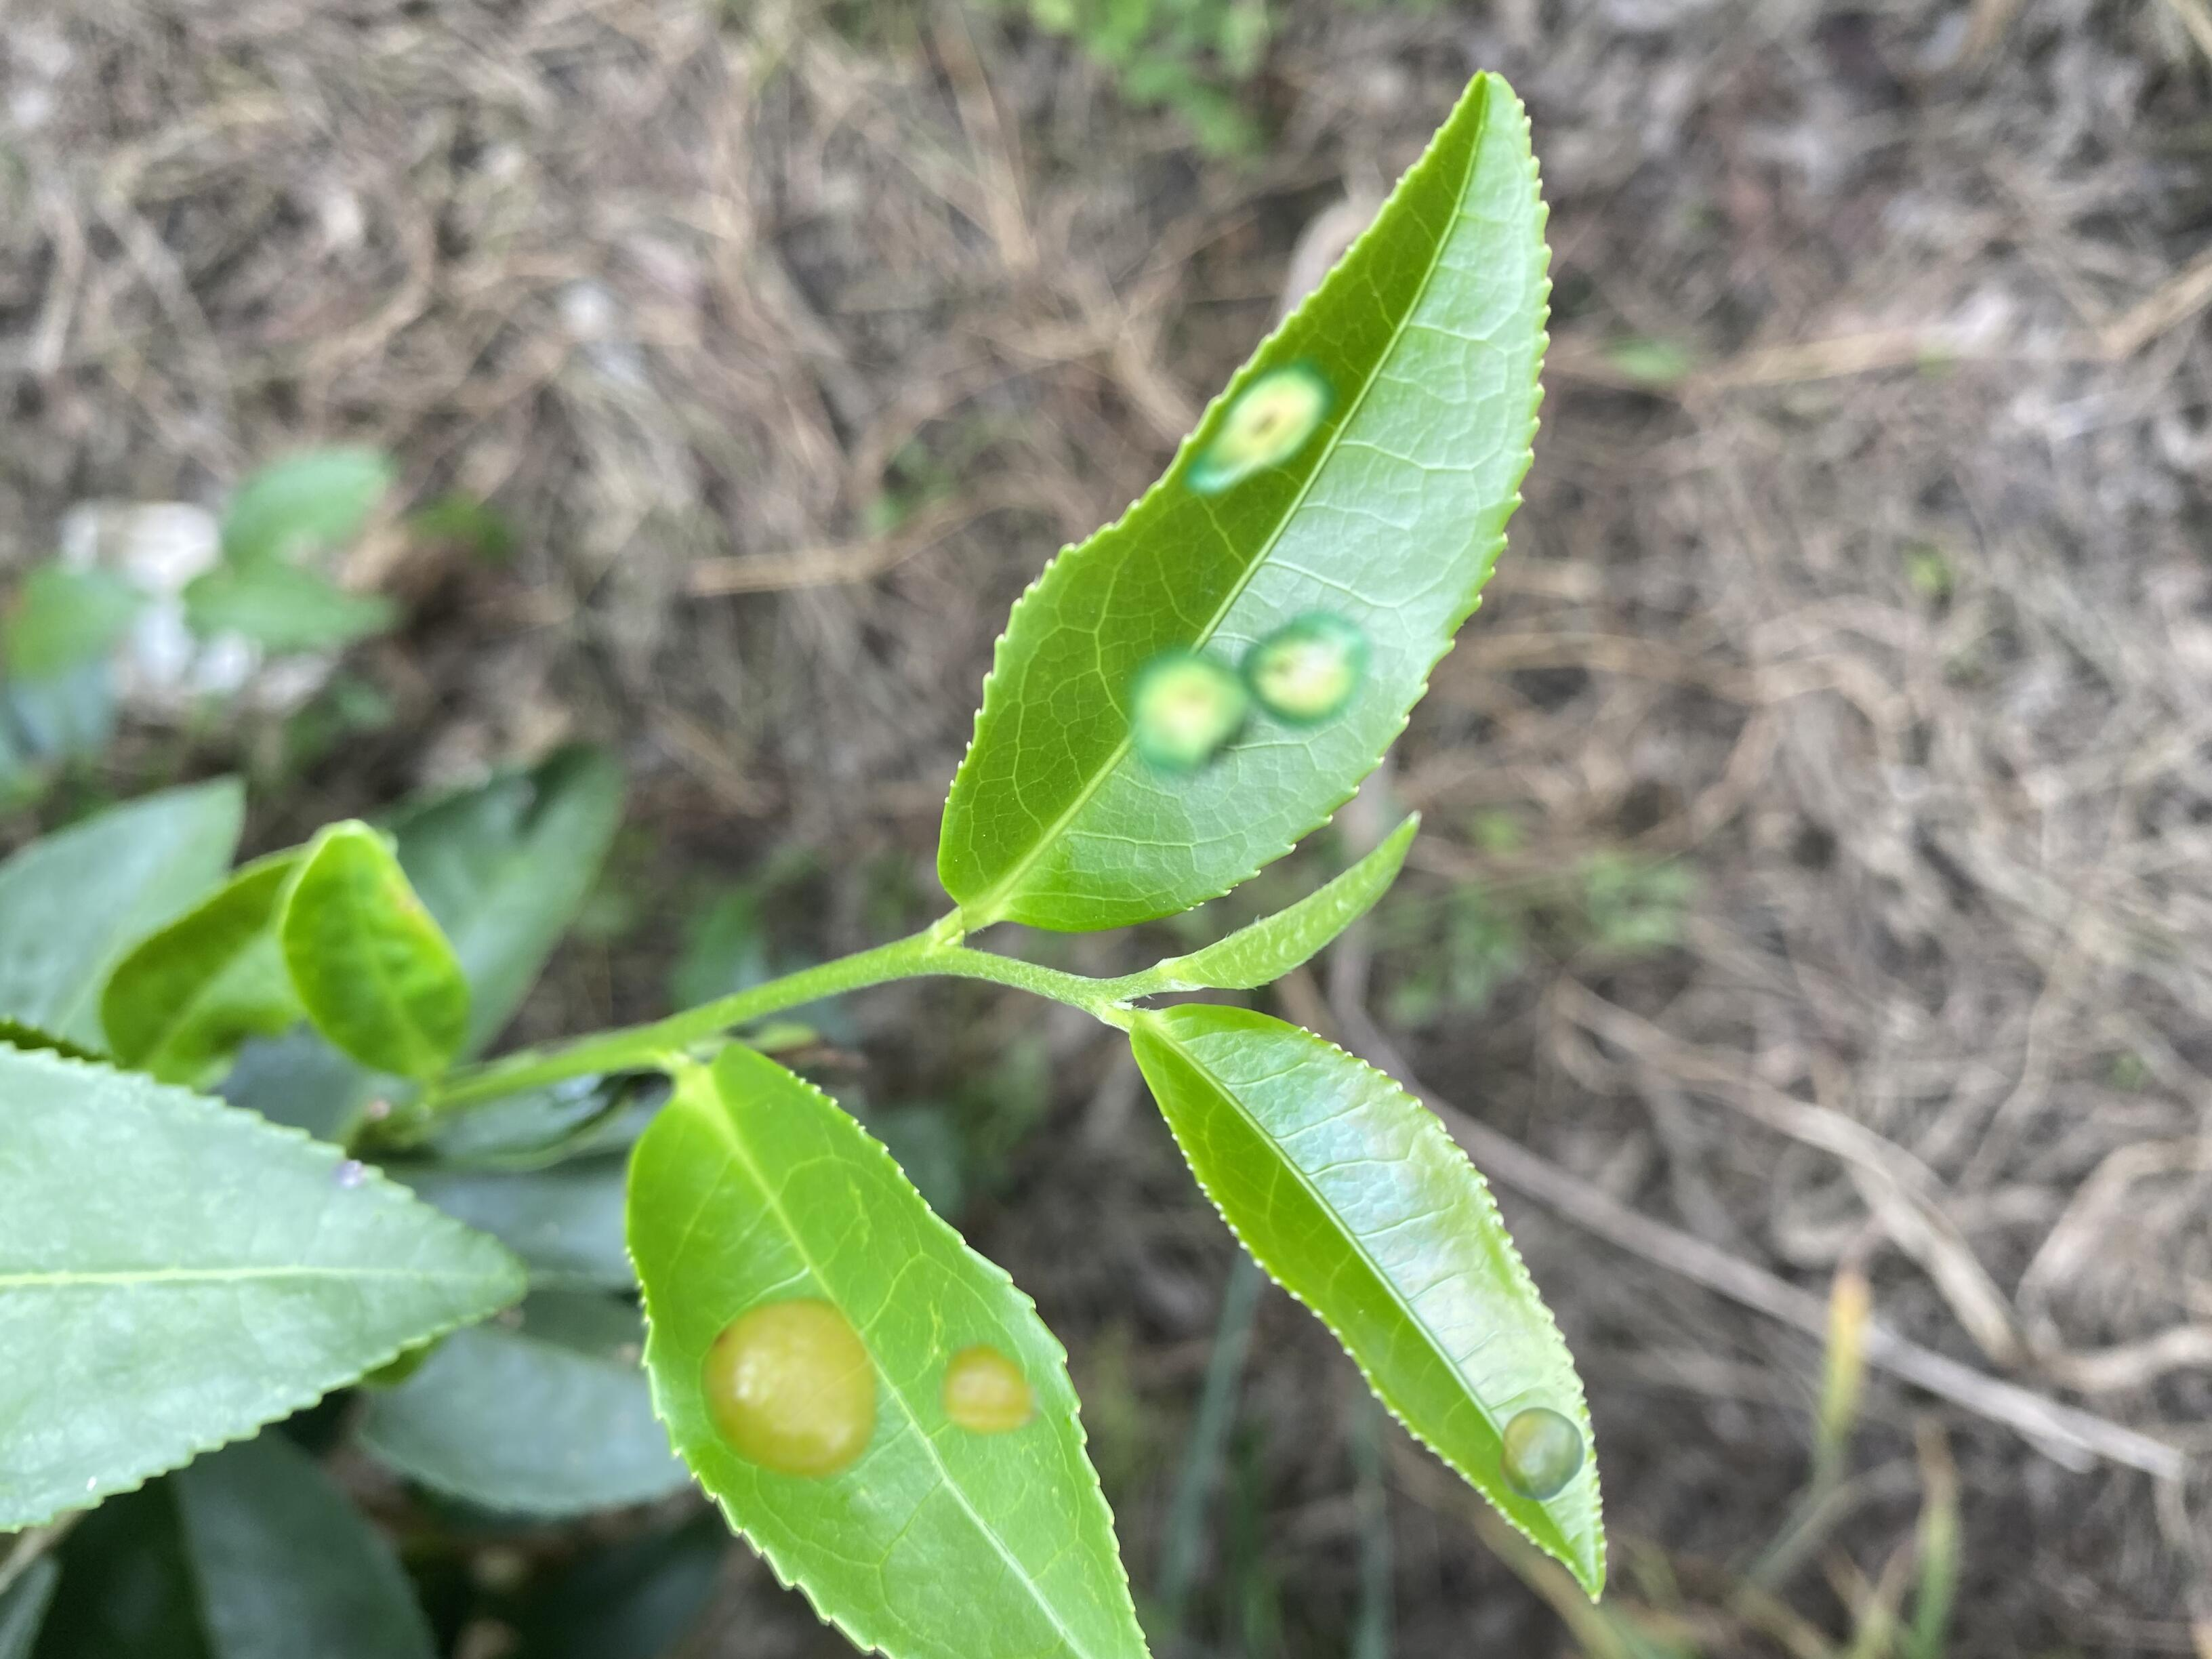chabing_high: (937, 64, 1555, 934), (622, 1046, 1153, 1659)
chabing_low: (1127, 1000, 1609, 1603)
